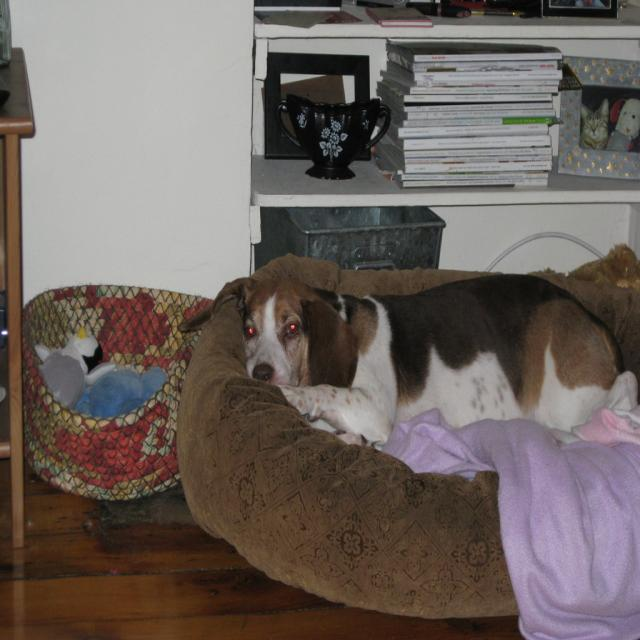Dog: (177, 275, 626, 452)
